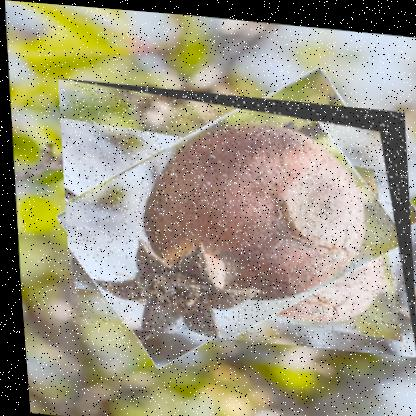pomegranate_rotten: (51, 75, 415, 352)
